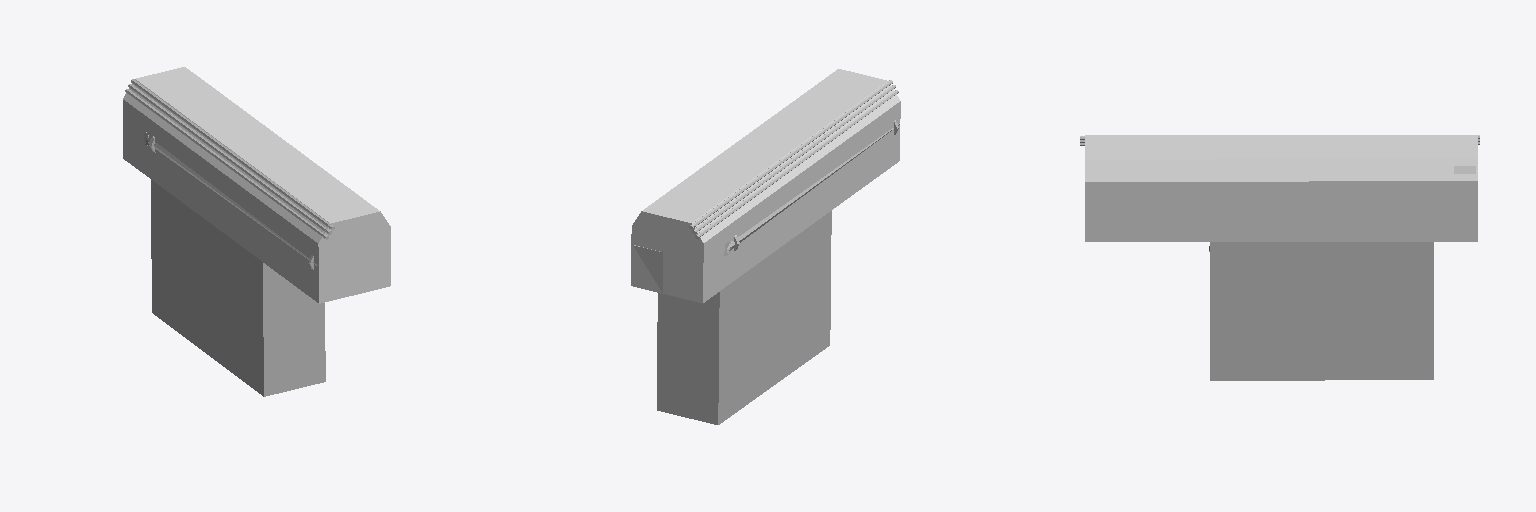
3 renders of one model, left to right at view 1: azimuth 30°, elevation 25°; view 2: azimuth 150°, elevation 25°; view 3: azimuth 270°, elevation 25°, orthographic.
Visible parts, largest first — view 1: wall, hole, pipes_outline, tube_outline; view 2: wall, hole, pipes_outline, tube_outline, faceplate_outline; view 3: wall, hole.
Boxes of the visible parts, <box> form: wall: <box>123,67,390,303</box>; hole: <box>151,180,325,396</box>; pipes_outline: <box>126,79,329,235</box>; tube_outline: <box>145,136,317,269</box>; wall: <box>631,69,900,303</box>; hole: <box>657,211,831,424</box>; pipes_outline: <box>693,81,895,236</box>; tube_outline: <box>727,120,899,254</box>; faceplate_outline: <box>633,245,662,292</box>; wall: <box>1085,135,1477,241</box>; hole: <box>1210,242,1433,380</box>.
Size of the model in its own units: 119 by 328 by 540.
Materials: 9 (5 with a texture image).